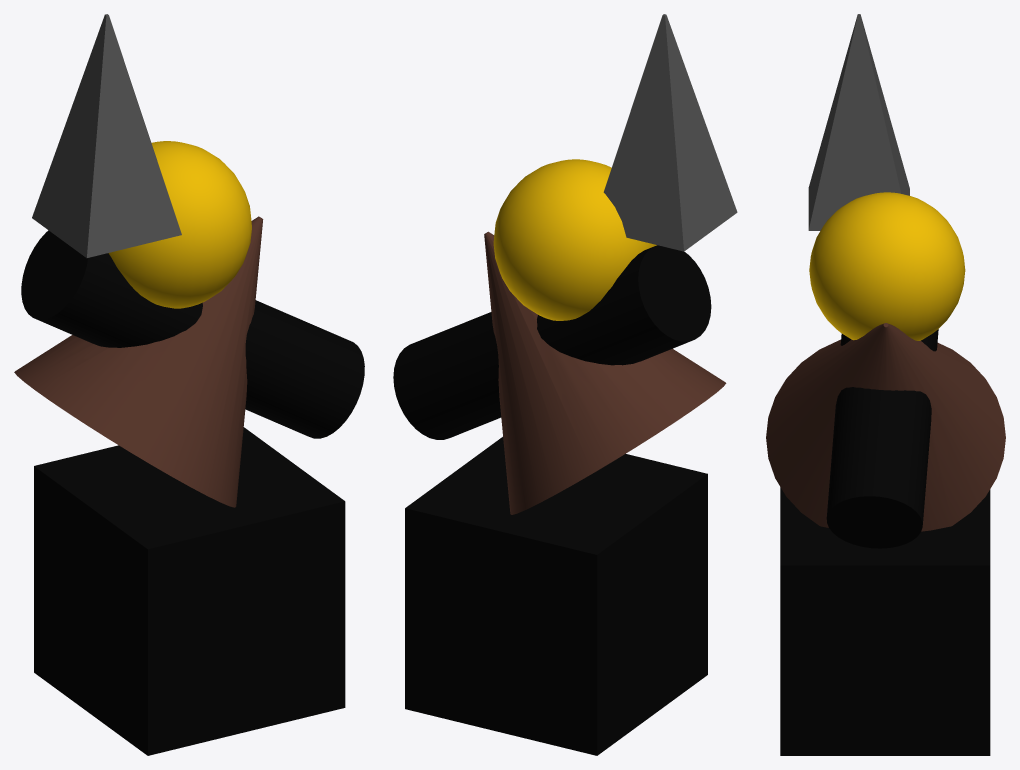
File: art2.fbx
3 renders of one model, left to right at view 1: azimuth 30°, elevation 25°; view 2: azimuth 150°, elevation 25°; view 3: azimuth 270°, elevation 25°, orthographic. The views are drawn at different scales.
Visible parts, largest first — view 1: Cube.001, ทรงกระบอก.002, ทรงกระบอก.003, ลูกบาศก์, ทรงกลม; view 2: Cube.001, ทรงกระบอก.002, ทรงกระบอก.003, ลูกบาศก์, ทรงกลม; view 3: Cube.001, ทรงกระบอก.002, ทรงกลม, ทรงกระบอก.003, ลูกบาศก์.
Part boxes in pixels (bbox=[...]): Cube.001: bbox=[34, 427, 345, 755]; ทรงกระบอก.002: bbox=[14, 216, 263, 507]; ทรงกระบอก.003: bbox=[21, 230, 364, 438]; ลูกบาศก์: bbox=[32, 14, 181, 257]; ทรงกลม: bbox=[108, 141, 251, 308]; Cube.001: bbox=[405, 437, 707, 755]; ทรงกระบอก.002: bbox=[484, 231, 726, 514]; ทรงกระบอก.003: bbox=[393, 245, 711, 439]; ลูกบาศก์: bbox=[603, 14, 737, 251]; ทรงกลม: bbox=[493, 159, 656, 320]; Cube.001: bbox=[780, 487, 990, 755]; ทรงกระบอก.002: bbox=[766, 323, 1005, 531]; ทรงกลม: bbox=[809, 192, 965, 340]; ทรงกระบอก.003: bbox=[826, 329, 938, 548]; ลูกบาศก์: bbox=[808, 14, 909, 230].
Bounding box in the file's own units: 318 × 687 × 229.
